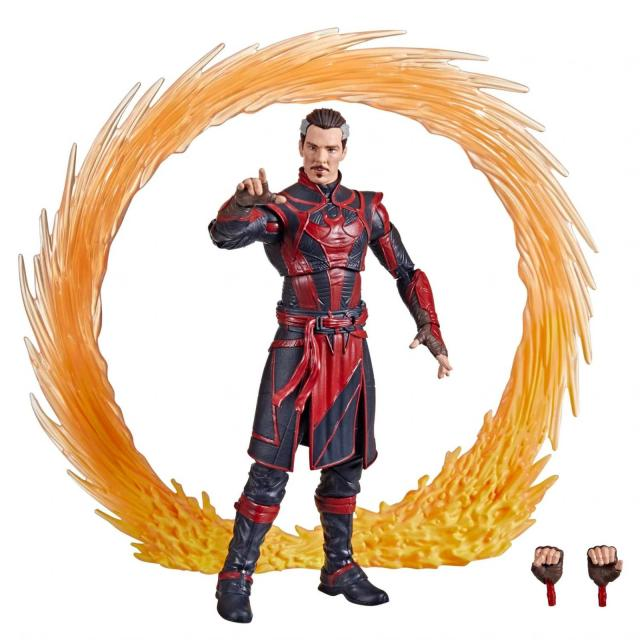doctor_strange: (237, 64, 431, 640)
